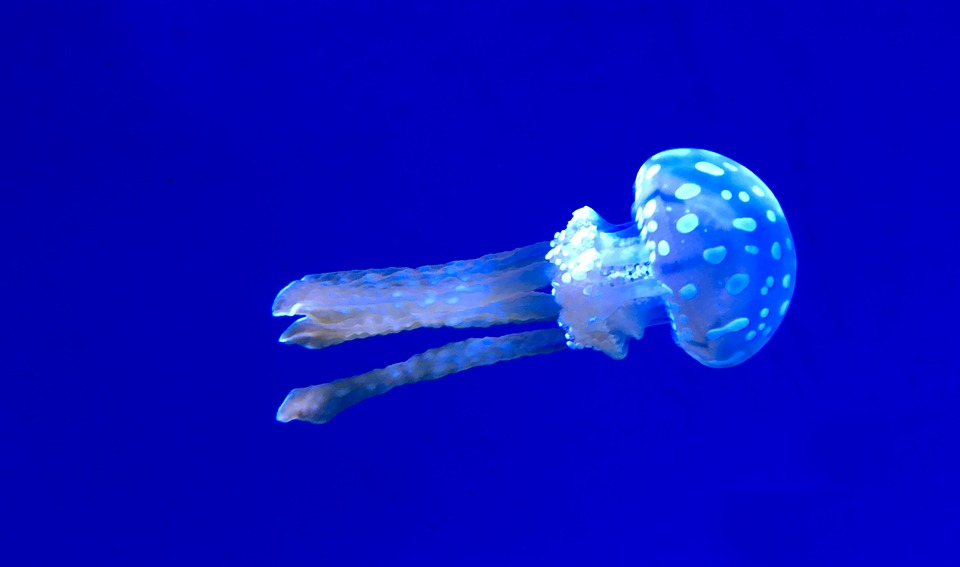jellyfish: (264, 143, 803, 435)
